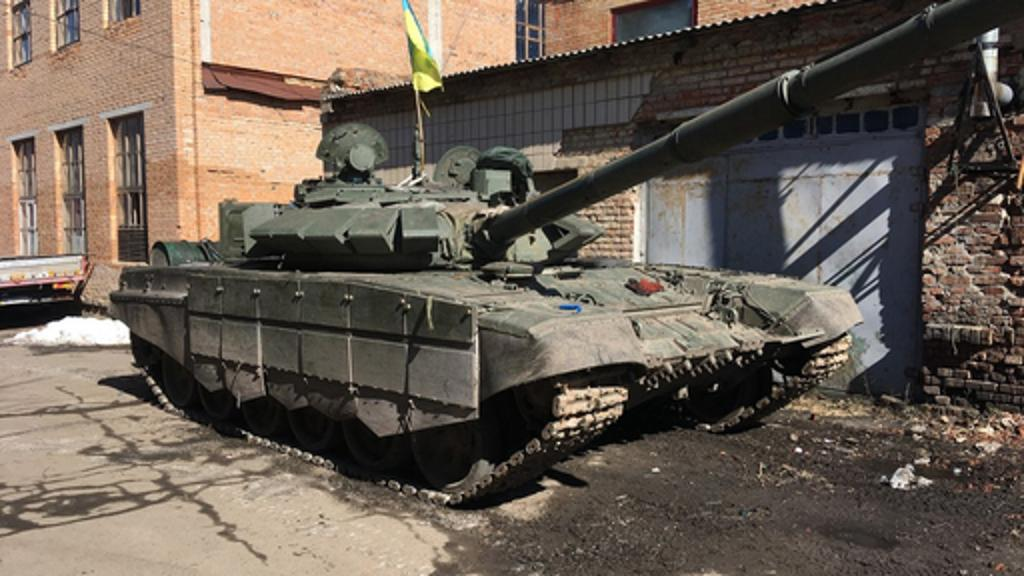TANK: (106, 0, 1022, 510)
